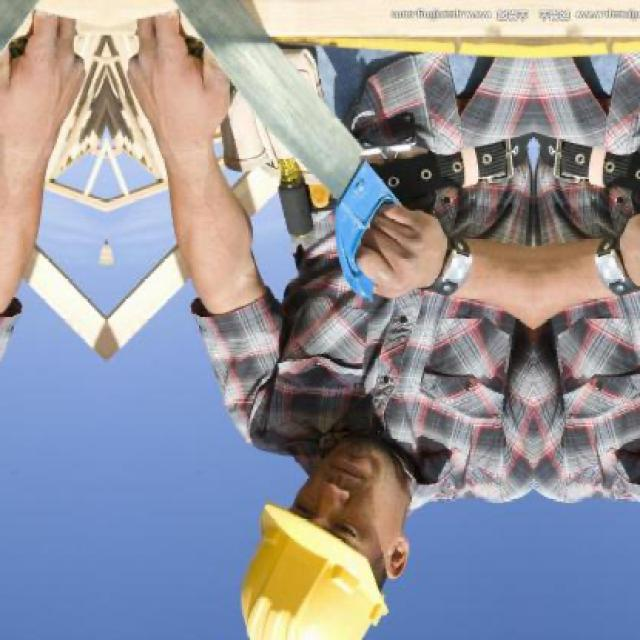con casco: (230, 444, 418, 640)
